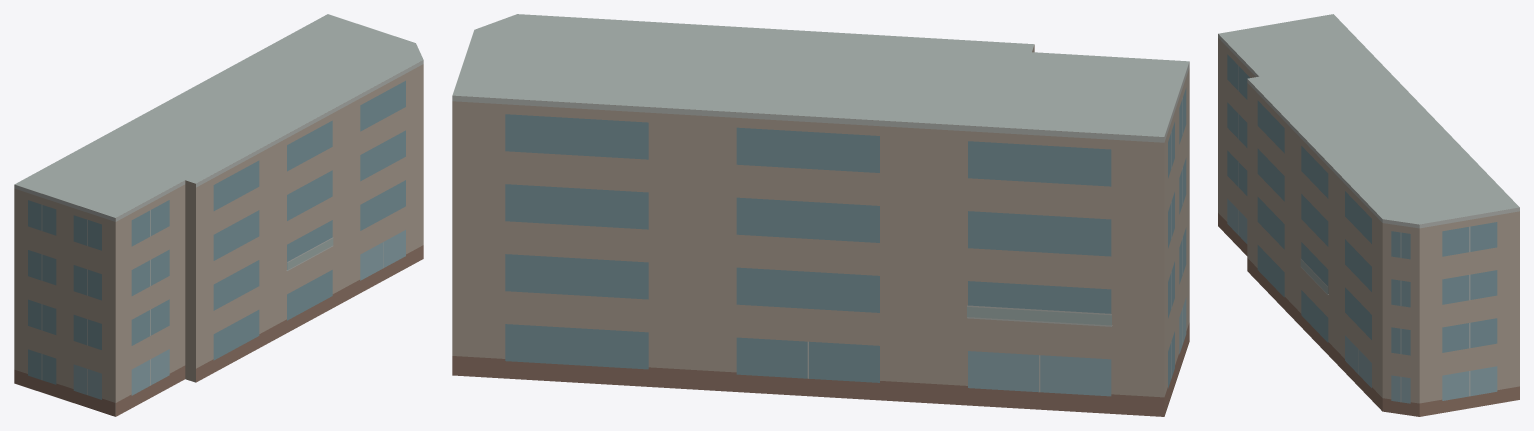
File: survey-upis-32540476.glb
The picture shows the model from 3 angles, left to right: view 1: azimuth 30°, elevation 25°; view 2: azimuth 150°, elevation 25°; view 3: azimuth 270°, elevation 25°; orthographic projection. The views are drawn at different scales.
Parts seen in each view (by area): view 1: survey-upis-32540476.tmp; view 2: survey-upis-32540476.tmp; view 3: survey-upis-32540476.tmp.
Boxes of the visible parts, x1=… form: survey-upis-32540476.tmp: x1=14, y1=14, x2=423, y2=416; survey-upis-32540476.tmp: x1=452, y1=14, x2=1189, y2=416; survey-upis-32540476.tmp: x1=1218, y1=14, x2=1519, y2=416.
Size of the model in its own units: 28.29 by 12.05 by 17.14.
